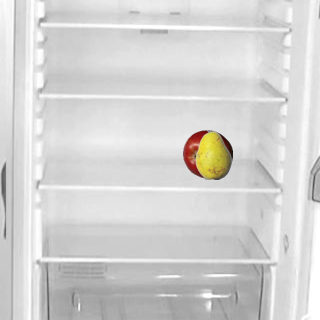Apple Braeburn: (182, 129, 232, 179)
Pear Monster: (188, 129, 238, 179)
